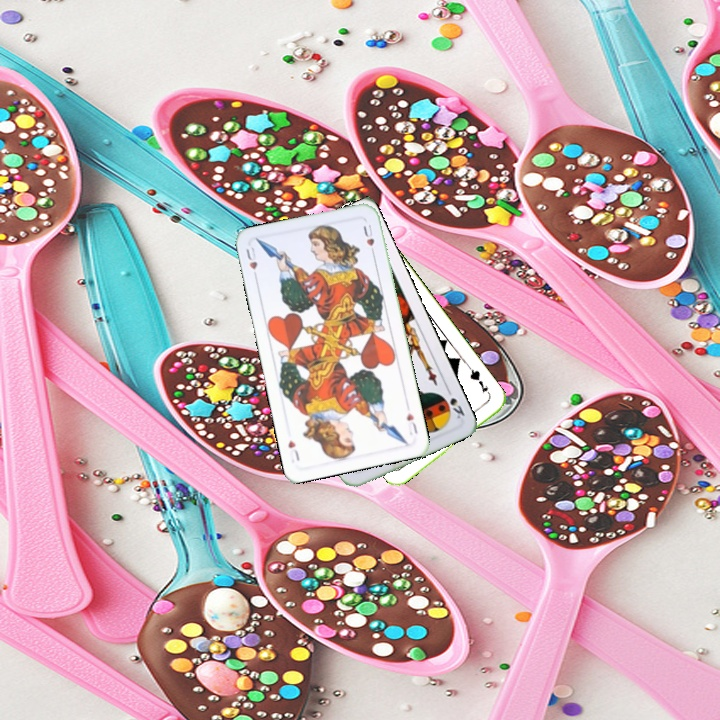G7: (465, 364, 491, 395)
HU: (242, 243, 260, 282), (402, 409, 420, 438)
SK: (442, 383, 467, 421)
